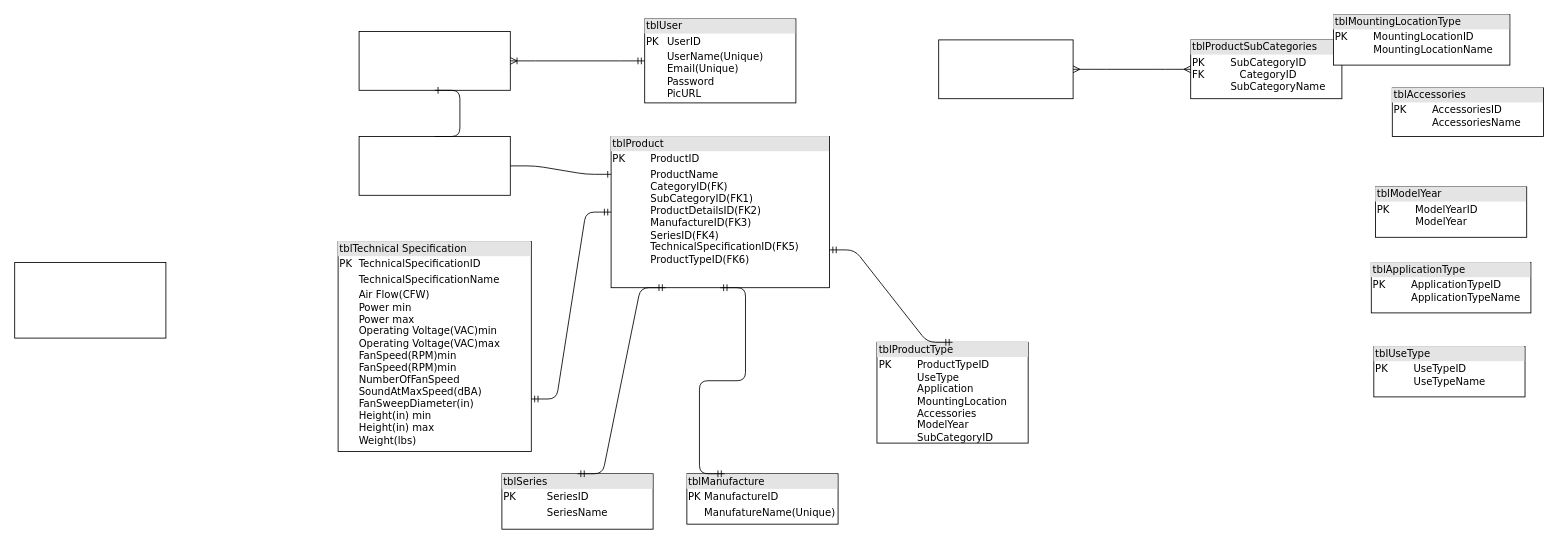
Some shapes in this 1558 by 544 pixel diagram are drawn without their labels. Here are the shapes that lost their labels. From the top down, the centre of each, then its label:
At point 434,60: "tblProject PK ProjectID ProjectName UserID".
At point 1005,69: "tblProductCategories PK CategoryID CategoryName".
At point 434,165: "tblProjectDetails PK ProjectID ProductID CreateDate".
At point 90,300: "tblProject PK ID ProductID UserID ProductID".
